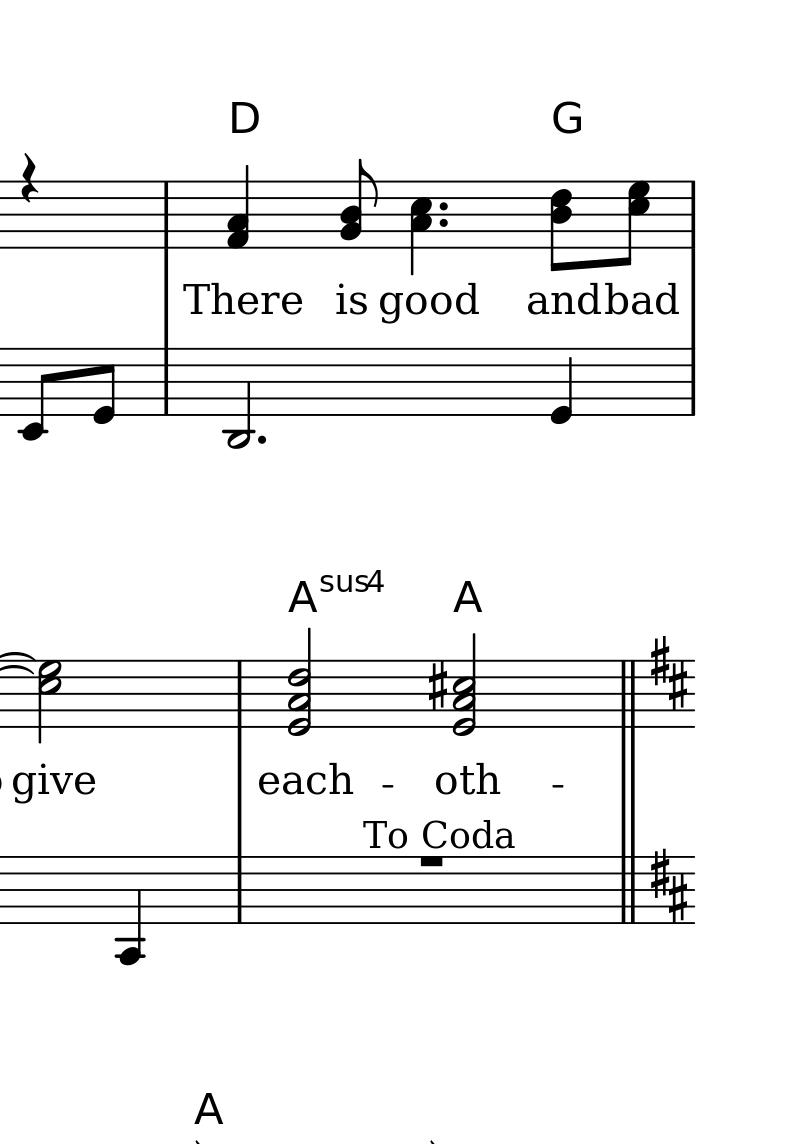2_-3: (224, 345, 253, 451)
2_5_7: (37, 660, 63, 744)
2_th: (285, 624, 313, 738), (451, 634, 481, 737)
4_-4: (114, 852, 144, 967)
4_0: (547, 346, 575, 426)
4_1_3: (227, 164, 250, 250)
4_3_5: (409, 179, 433, 276)
8_-2: (19, 344, 56, 442)
8_0: (91, 345, 118, 426)
8_2_4: (339, 159, 379, 251)
8_4_6: (549, 179, 573, 274)
8_5_7: (621, 179, 652, 266)
D_S: (648, 846, 692, 923), (648, 634, 689, 709)
Double_barline: (614, 661, 640, 727), (614, 857, 640, 923)
Rests1: (414, 851, 446, 869)
Rests4: (20, 151, 40, 206)
Single_barline: (156, 348, 176, 415), (683, 180, 702, 249), (156, 182, 176, 247), (230, 857, 250, 922), (230, 661, 249, 727), (683, 348, 701, 415)
Slur: (1, 656, 38, 675), (1, 650, 38, 663)
ToCoda: (359, 814, 520, 851)
dot: (437, 216, 452, 228), (437, 200, 451, 212), (256, 432, 267, 447)
